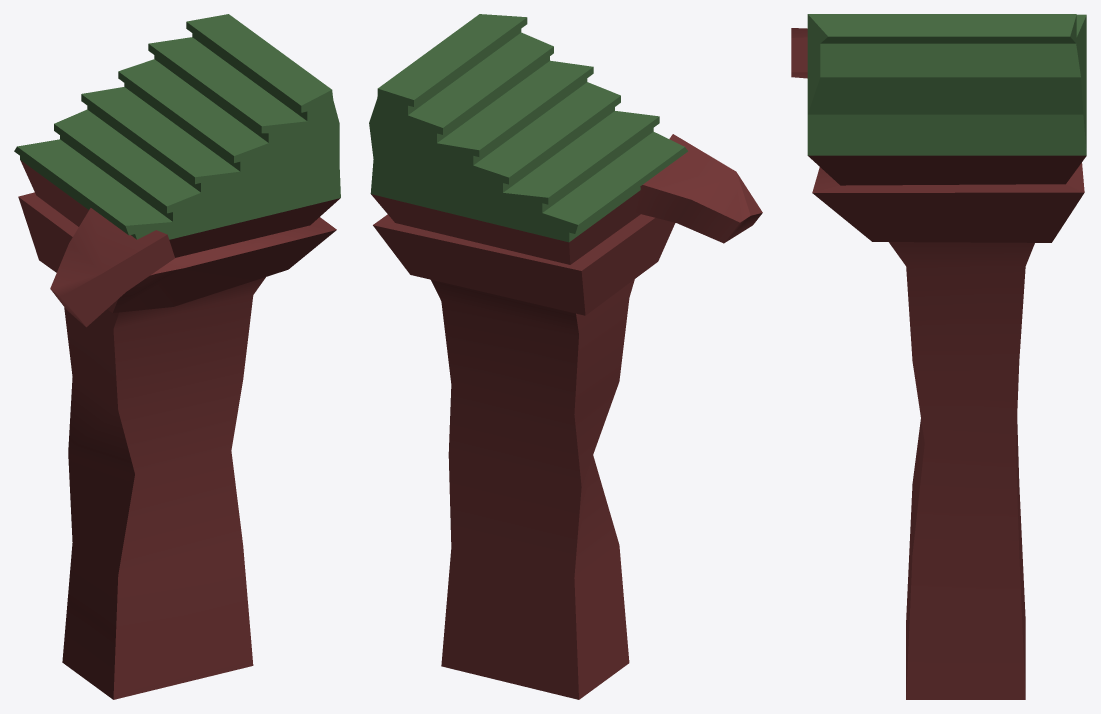
The model's file is mesh_muroescalera2.fbx.
3 renders of one model, left to right at view 1: azimuth 30°, elevation 25°; view 2: azimuth 150°, elevation 25°; view 3: azimuth 270°, elevation 25°, orthographic. The views are drawn at different scales.
Visible parts, largest first — view 1: mesh_muroescalera2; view 2: mesh_muroescalera2; view 3: mesh_muroescalera2.
Boxes of the visible parts, bbox=[...] form: mesh_muroescalera2: bbox=[14, 14, 340, 699]; mesh_muroescalera2: bbox=[369, 14, 762, 699]; mesh_muroescalera2: bbox=[791, 14, 1086, 699].
Bounding box in the file's own units: 2327 × 4719 × 1834.
